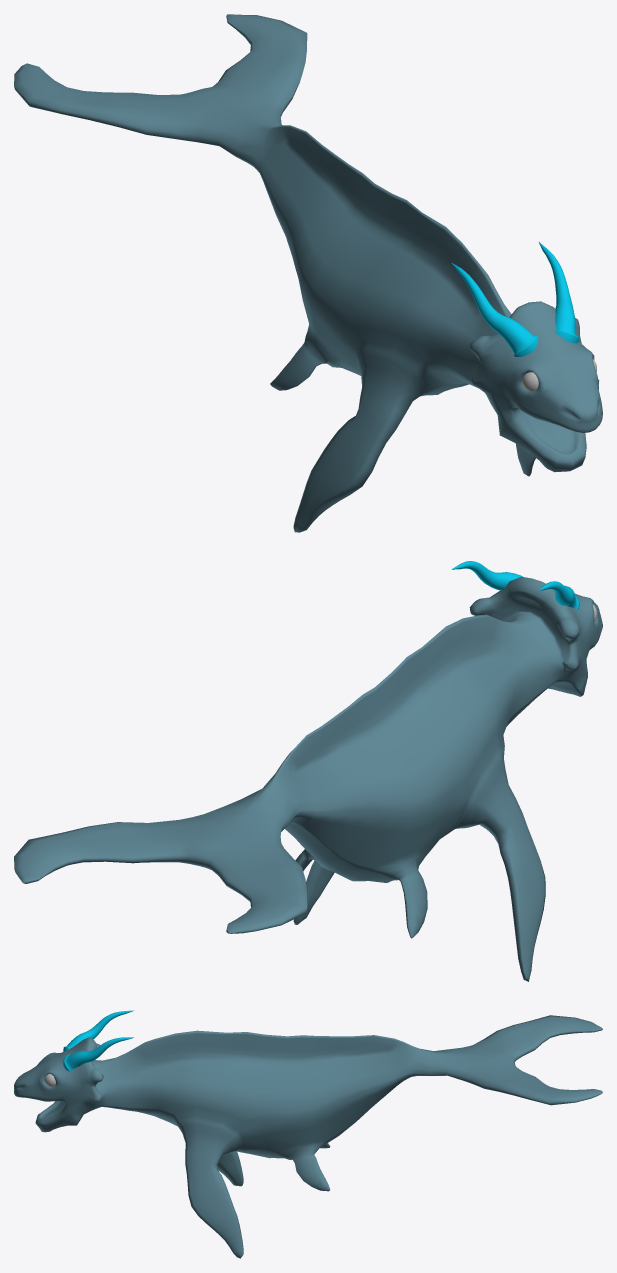
The model's file is Tidal Drake.fbx.
3 views of the same model, one above another, from view 1: azimuth 30°, elevation 25°; view 2: azimuth 150°, elevation 25°; view 3: azimuth 270°, elevation 25° (orthographic). The views are drawn at different scales.
Visible parts, largest first — view 1: Dragon_Whale; view 2: Dragon_Whale; view 3: Dragon_Whale.
Boxes of the visible parts, bbox=[...] form: Dragon_Whale: bbox=[14, 14, 602, 532]; Dragon_Whale: bbox=[14, 561, 602, 981]; Dragon_Whale: bbox=[14, 1010, 602, 1258].
Bounding box in the file's own units: 6.06 × 6.49 × 17.45.
